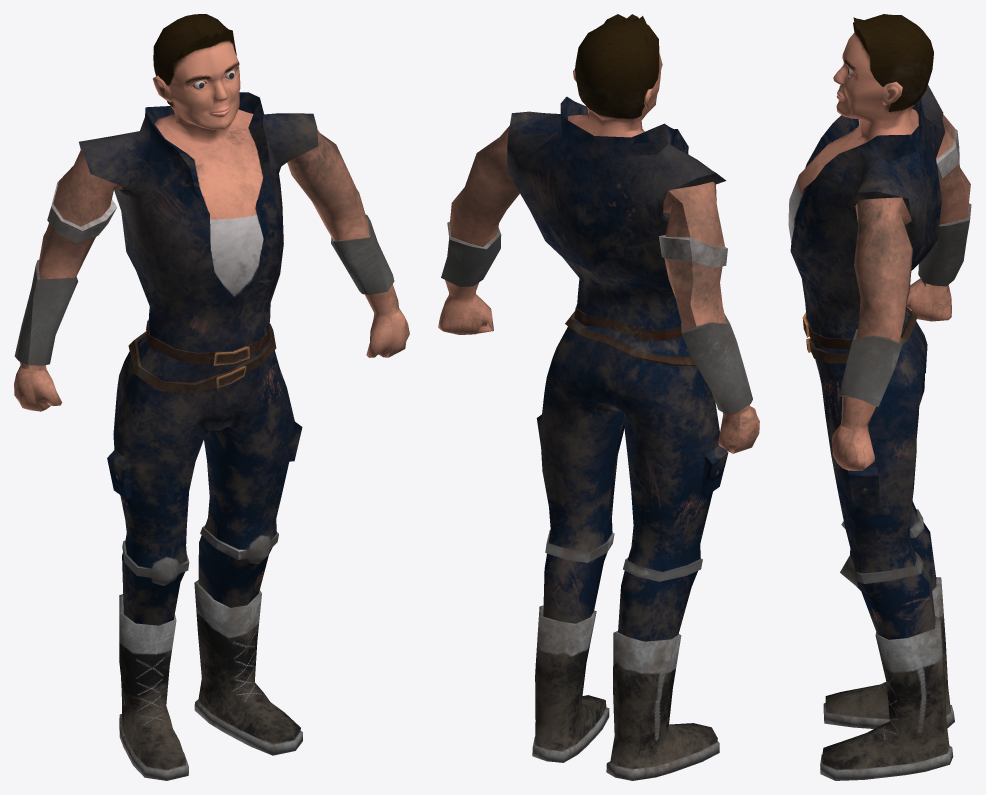
The model's file is Anim_ataque_d1_jugador.0033.obj.
3 renders of one model, left to right at view 1: azimuth 30°, elevation 25°; view 2: azimuth 150°, elevation 25°; view 3: azimuth 270°, elevation 25°, orthographic.
Parts seen in each view (by area): view 1: polySurface1; view 2: polySurface1; view 3: polySurface1.
Boxes of the visible parts, x1,y1,x2,y2 form: polySurface1: (14, 14, 409, 780); polySurface1: (438, 14, 759, 780); polySurface1: (788, 14, 971, 780).
Size of the model in its own units: 4.88 by 9.63 by 2.2.
